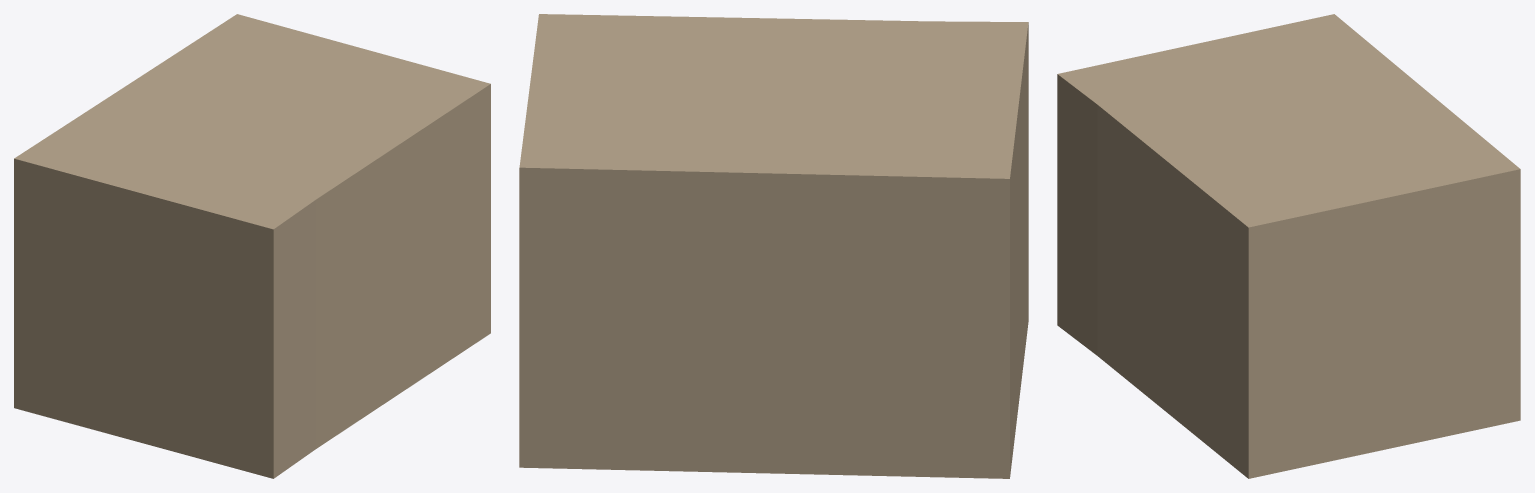
Rendered from bld_101805811.dae.
3 views of the same model, side by side, from view 1: azimuth 30°, elevation 25°; view 2: azimuth 150°, elevation 25°; view 3: azimuth 270°, elevation 25° (orthographic). The views are drawn at different scales.
Parts seen in each view (by area): view 1: bld_101805811; view 2: bld_101805811; view 3: bld_101805811.
Boxes of the visible parts, box(x1,y1,x2,y2) form: bld_101805811: box(14, 14, 490, 478); bld_101805811: box(519, 14, 1028, 478); bld_101805811: box(1057, 14, 1520, 478).
Size of the model in its own units: 14.57 by 13.36 by 8.
